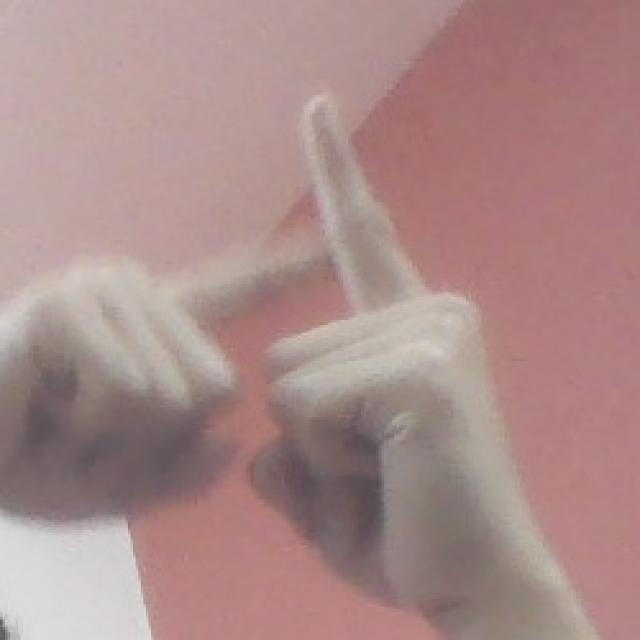Alphabet-X: (0, 92, 540, 608)
